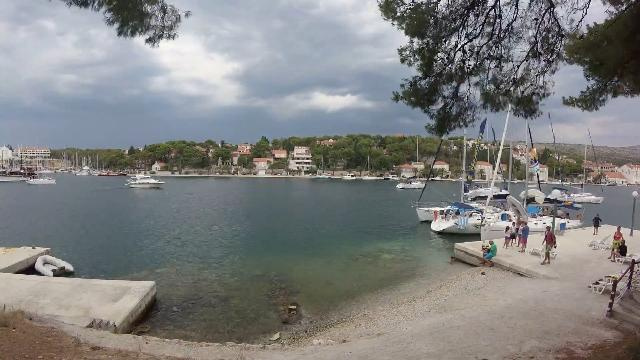Freighter: (1, 158, 40, 184)
Sailboat: (20, 170, 61, 188), (391, 173, 429, 192)
ferry: (121, 168, 169, 192)
